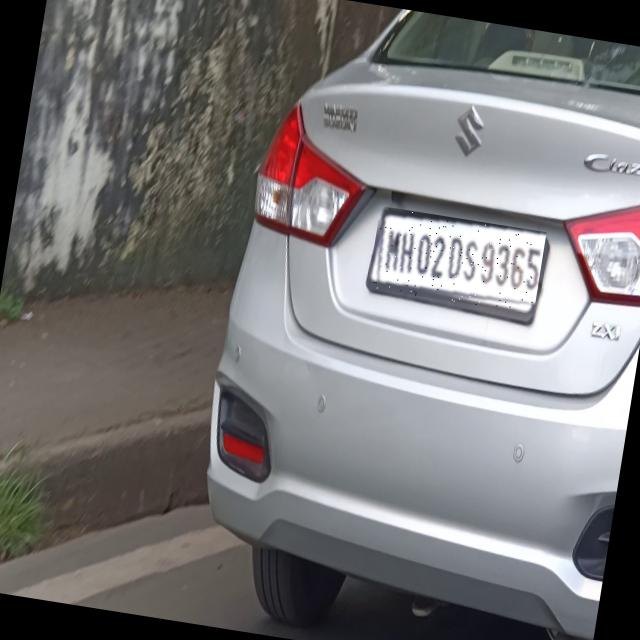Plate: (369, 207, 548, 315)
